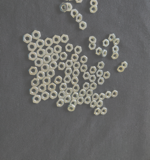nut: (22, 34, 33, 44), (40, 63, 50, 73), (32, 29, 41, 40), (64, 2, 73, 12), (78, 21, 87, 31), (88, 43, 98, 52), (27, 43, 37, 52), (52, 35, 61, 45), (44, 38, 53, 48), (37, 48, 46, 58), (47, 83, 57, 92), (71, 8, 79, 19), (60, 3, 69, 12), (65, 44, 74, 53), (90, 82, 99, 91), (59, 52, 68, 61), (45, 47, 54, 56), (27, 52, 36, 61), (51, 54, 60, 63), (36, 71, 45, 80), (30, 87, 39, 96), (49, 91, 58, 100), (42, 77, 51, 86), (76, 97, 85, 106), (36, 39, 44, 49), (54, 44, 62, 54), (28, 67, 38, 75), (75, 14, 83, 23), (61, 34, 69, 43), (112, 45, 121, 53), (111, 53, 120, 61), (88, 36, 97, 44), (95, 48, 103, 57), (97, 62, 106, 70), (92, 93, 100, 102), (79, 56, 88, 64), (73, 62, 82, 70), (58, 62, 66, 71), (72, 70, 81, 78), (65, 68, 74, 76), (54, 76, 63, 84), (43, 55, 51, 64), (33, 95, 41, 104), (31, 79, 40, 87), (63, 76, 72, 84), (59, 83, 68, 91), (57, 92, 66, 100), (71, 93, 80, 101), (89, 6, 99, 13), (109, 34, 117, 42), (102, 39, 110, 47), (113, 38, 121, 46), (118, 66, 126, 74), (96, 70, 104, 78), (98, 77, 106, 85), (90, 101, 98, 109), (74, 46, 82, 54), (71, 54, 79, 62), (80, 65, 88, 73), (89, 67, 97, 75), (89, 75, 97, 83), (66, 60, 74, 68), (35, 59, 43, 67), (49, 62, 57, 70), (47, 70, 55, 78), (42, 93, 50, 101), (55, 76, 63, 84), (64, 96, 72, 104), (72, 85, 80, 93), (112, 90, 119, 99), (94, 107, 101, 116), (83, 72, 90, 81), (56, 100, 65, 107), (82, 84, 91, 91), (102, 50, 109, 58), (104, 72, 111, 80), (105, 91, 112, 99), (99, 93, 106, 101), (97, 101, 105, 108), (86, 90, 94, 97), (85, 97, 92, 105), (71, 78, 79, 85), (39, 85, 46, 93), (65, 88, 73, 95), (89, 1, 98, 7), (67, 106, 76, 112), (121, 62, 128, 69), (101, 108, 108, 115), (70, 100, 77, 107), (79, 90, 86, 97), (102, 50, 108, 58), (75, 0, 84, 3), (68, 0, 75, 2)
